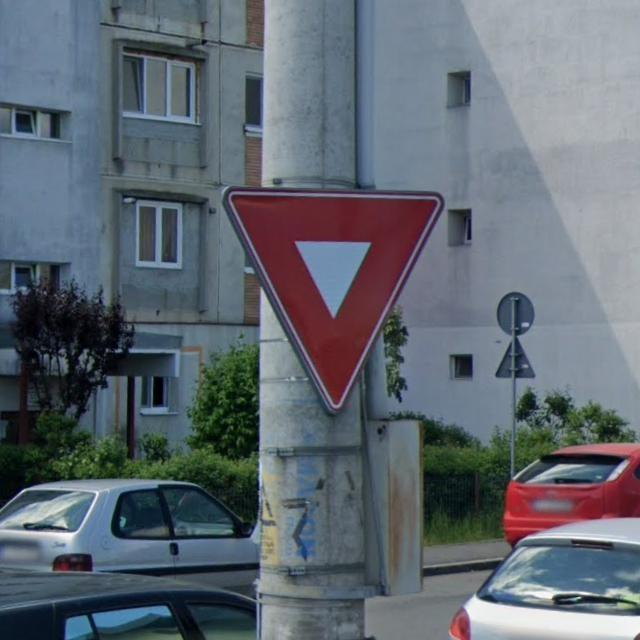prio_give_way: (222, 182, 442, 415)
